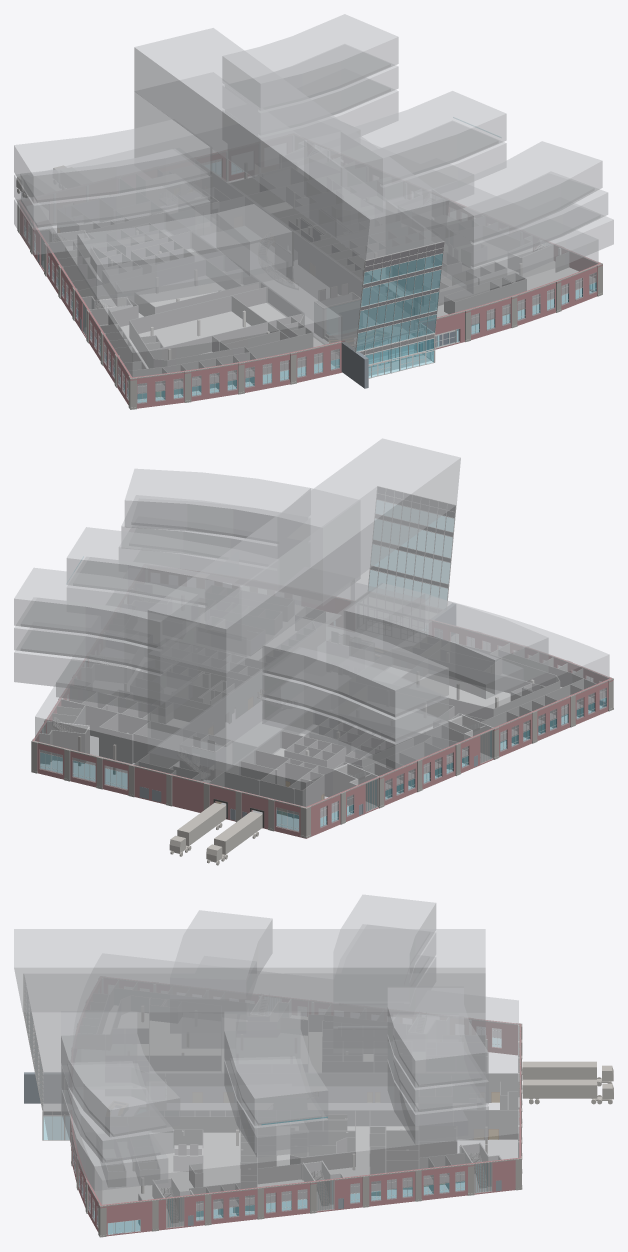
The picture shows the model from 3 angles, top to bottom: view 1: azimuth 30°, elevation 25°; view 2: azimuth 150°, elevation 25°; view 3: azimuth 270°, elevation 25°; orthographic projection.
Visible parts, largest first — view 1: 1IjDNnD1b6tenKMZR0qHo0, 1IjDNnD1b6tenKMZR0qHo2, 1IjDNnD1b6tenKMZR0qHnz, 1IjDNnD1b6tenKMZR0qHn_, 1IjDNnD1b6tenKMZR0qCK4, 1IjDNnD1b6tenKMZR0qC8T, 1IjDNnD1b6tenKMZR0qCK7, 1IjDNnD1b6tenKMZR0q8JH, 1IjDNnD1b6tenKMZR0q8Os, 1IjDNnD1b6tenKMZR0qJbX, 1IjDNnD1b6tenKMZR0qC5x, 1IjDNnD1b6tenKMZR0qCKF (+4 smaller); view 2: 1IjDNnD1b6tenKMZR0qHo0, 1IjDNnD1b6tenKMZR0qHn_, 1IjDNnD1b6tenKMZR0qHn$, 1IjDNnD1b6tenKMZR0qHi3, 1IjDNnD1b6tenKMZR0qHo2, 1IjDNnD1b6tenKMZR0qCHB, 1IjDNnD1b6tenKMZR0qCHA, 1IjDNnD1b6tenKMZR0qC8T, 1IjDNnD1b6tenKMZR0qCHM, 1IjDNnD1b6tenKMZR0qCDw, 1IjDNnD1b6tenKMZR0qCKv, 1IjDNnD1b6tenKMZR0qCMu (+6 smaller); view 3: 1IjDNnD1b6tenKMZR0qHo0, 1IjDNnD1b6tenKMZR0qHny, 1IjDNnD1b6tenKMZR0q8JH, 1IjDNnD1b6tenKMZR0qCHA, 1IjDNnD1b6tenKMZR0qCHB, 1IjDNnD1b6tenKMZR0qC8T, 1IjDNnD1b6tenKMZR0q8Ip, 1IjDNnD1b6tenKMZR0qHiK, 1IjDNnD1b6tenKMZR0qCK8, 1IjDNnD1b6tenKMZR0q8Os, 1IjDNnD1b6tenKMZR0qHn_, 1IjDNnD1b6tenKMZR0qHnz (+11 smaller).
Boxes of the visible parts, <box> form: 1IjDNnD1b6tenKMZR0qHo0: <box>14,14,613,402</box>; 1IjDNnD1b6tenKMZR0qHo2: <box>131,340,345,408</box>; 1IjDNnD1b6tenKMZR0qHnz: <box>419,263,600,351</box>; 1IjDNnD1b6tenKMZR0qHn_: <box>19,201,131,404</box>; 1IjDNnD1b6tenKMZR0qCK4: <box>130,287,267,333</box>; 1IjDNnD1b6tenKMZR0qC8T: <box>139,311,250,346</box>; 1IjDNnD1b6tenKMZR0qCK7: <box>149,313,302,359</box>; 1IjDNnD1b6tenKMZR0q8JH: <box>368,257,594,323</box>; 1IjDNnD1b6tenKMZR0q8Os: <box>341,342,368,388</box>; 1IjDNnD1b6tenKMZR0qJbX: <box>454,279,526,330</box>; 1IjDNnD1b6tenKMZR0qC5x: <box>140,282,224,306</box>; 1IjDNnD1b6tenKMZR0qCKF: <box>247,332,312,358</box>; 1IjDNnD1b6tenKMZR0qHo0: <box>14,438,609,830</box>; 1IjDNnD1b6tenKMZR0qHn_: <box>306,678,610,837</box>; 1IjDNnD1b6tenKMZR0qHn$: <box>37,741,307,838</box>; 1IjDNnD1b6tenKMZR0qHi3: <box>61,699,180,740</box>; 1IjDNnD1b6tenKMZR0qHo2: <box>432,620,611,706</box>; 1IjDNnD1b6tenKMZR0qCHB: <box>206,811,262,865</box>; 1IjDNnD1b6tenKMZR0qCHA: <box>169,802,225,856</box>; 1IjDNnD1b6tenKMZR0qC8T: <box>420,677,510,708</box>; 1IjDNnD1b6tenKMZR0qCHM: <box>224,772,302,818</box>; 1IjDNnD1b6tenKMZR0qCDw: <box>99,727,131,763</box>; 1IjDNnD1b6tenKMZR0qCKv: <box>254,750,332,797</box>; 1IjDNnD1b6tenKMZR0qCMu: <box>70,688,165,723</box>; 1IjDNnD1b6tenKMZR0qHo0: <box>14,894,518,1233</box>; 1IjDNnD1b6tenKMZR0qHny: <box>102,1157,520,1236</box>; 1IjDNnD1b6tenKMZR0q8JH: <box>74,1132,240,1206</box>; 1IjDNnD1b6tenKMZR0qCHA: <box>522,1079,613,1104</box>; 1IjDNnD1b6tenKMZR0qCHB: <box>522,1061,613,1086</box>; 1IjDNnD1b6tenKMZR0qC8T: <box>150,1021,220,1055</box>; 1IjDNnD1b6tenKMZR0q8Ip: <box>276,1126,369,1192</box>; 1IjDNnD1b6tenKMZR0qHiK: <box>151,1116,240,1132</box>; 1IjDNnD1b6tenKMZR0qCK8: <box>145,1056,220,1070</box>; 1IjDNnD1b6tenKMZR0q8Os: <box>24,1072,60,1103</box>; 1IjDNnD1b6tenKMZR0qHn_: <box>307,1012,519,1055</box>; 1IjDNnD1b6tenKMZR0qHnz: <box>70,1114,102,1231</box>.
Bounding box in the file's own units: 102 × 36.2 × 110.
